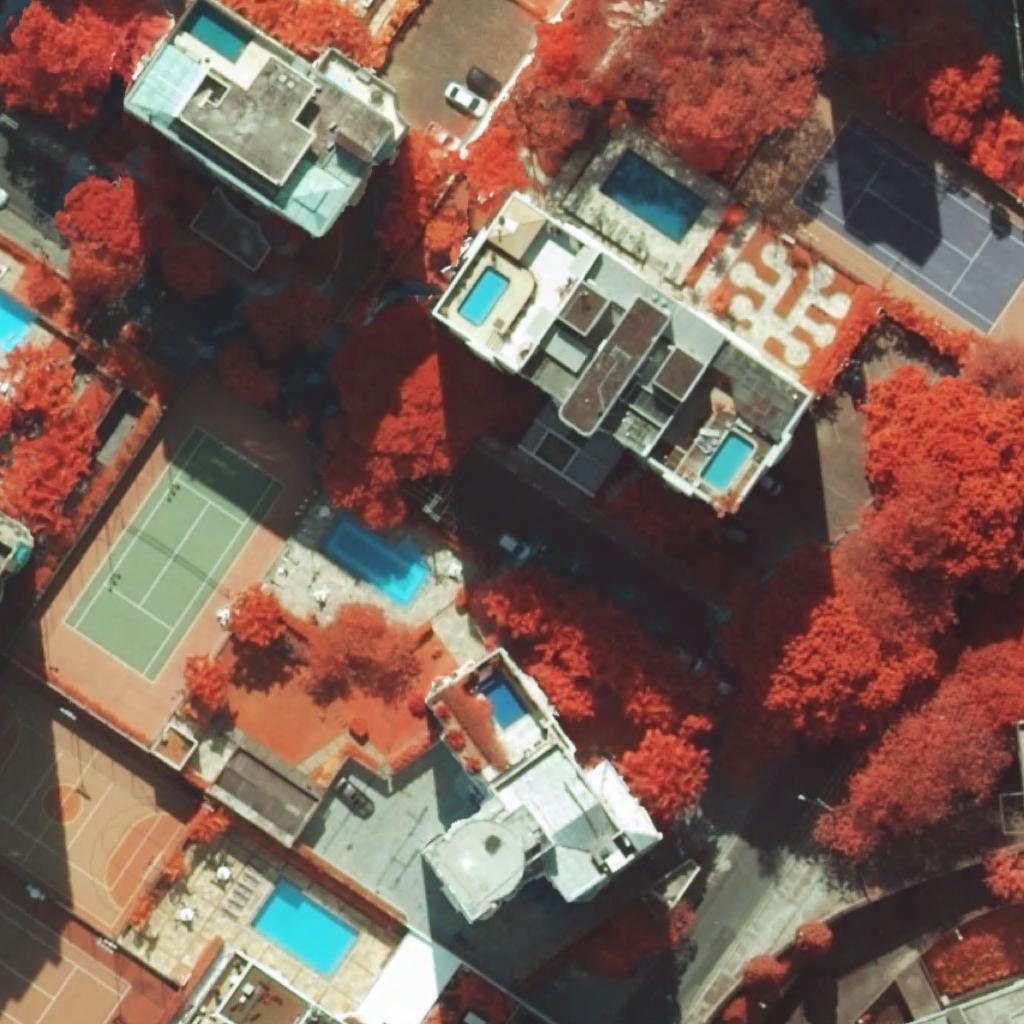pool: (316, 510, 431, 609), (249, 877, 359, 978), (599, 148, 708, 245), (700, 430, 755, 492), (457, 266, 510, 327), (482, 677, 529, 730), (0, 291, 38, 352)
